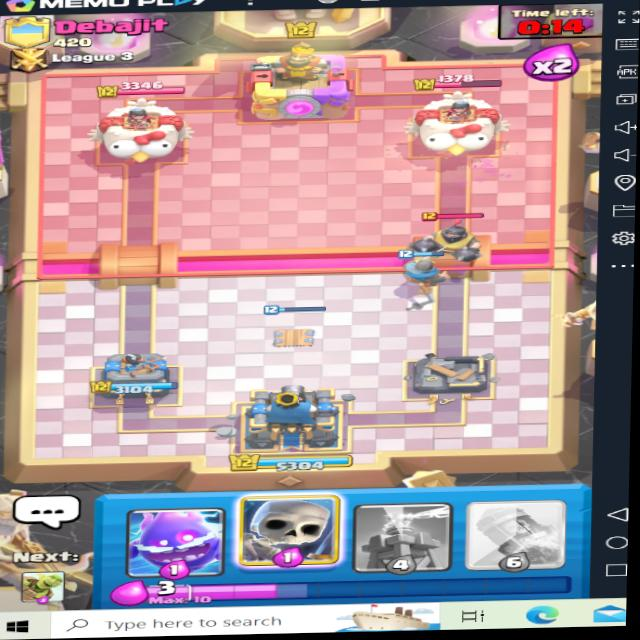mega-knight: (409, 201, 482, 267)
